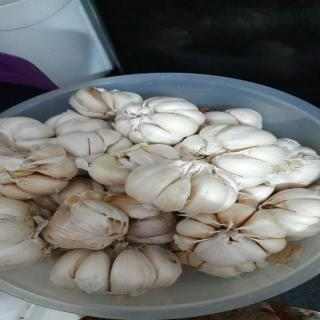Bawang Putih: (123, 161, 248, 217)
